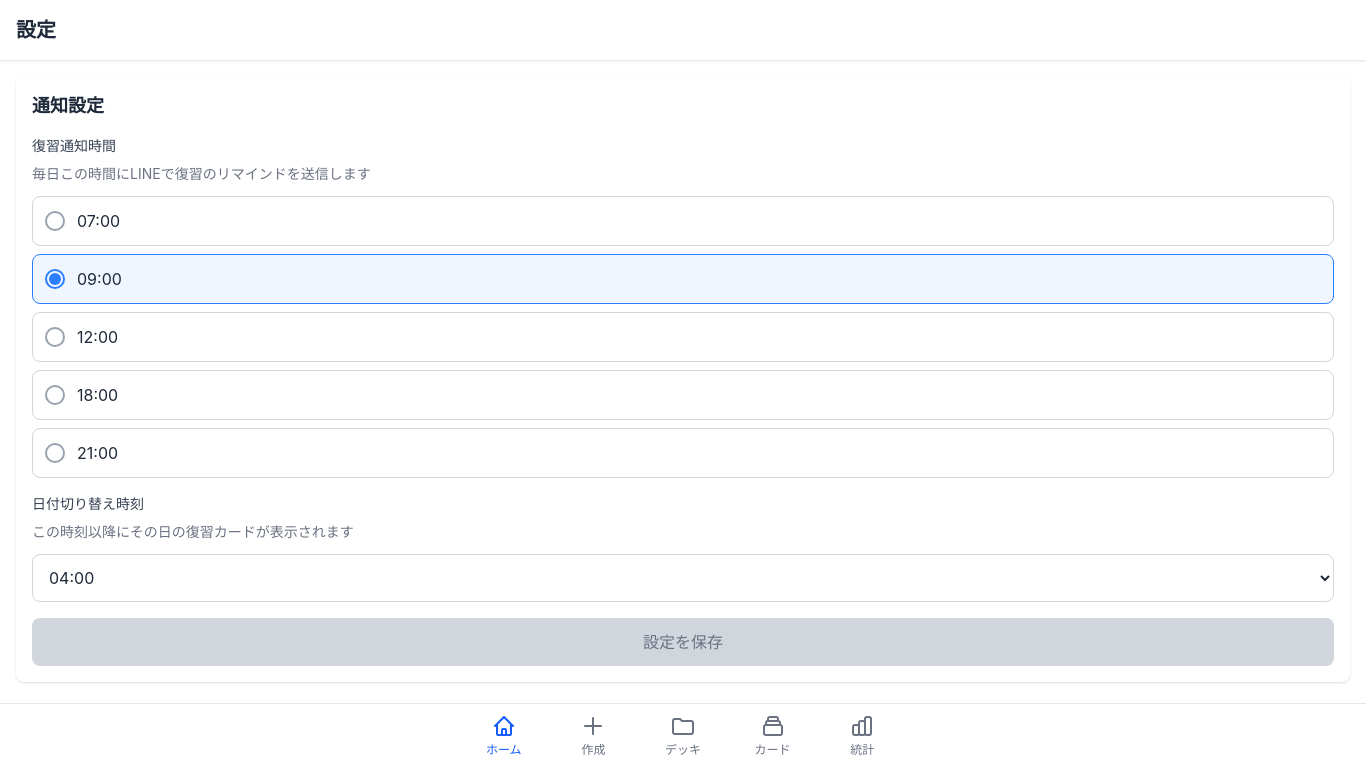
Test: SettingsPage › テストケース4: 変更がない場合の保存ボタン無効化 › 設定を変更すると保存ボタンが有効になる
Expected: the heading "設定" is shown, [16,18,56,42]
What coordinates should you click on to do the following:
click the radio button with test id "time-option-18:00"
I would click on:
 (98, 395)
Its box is [32,370,1334,420].
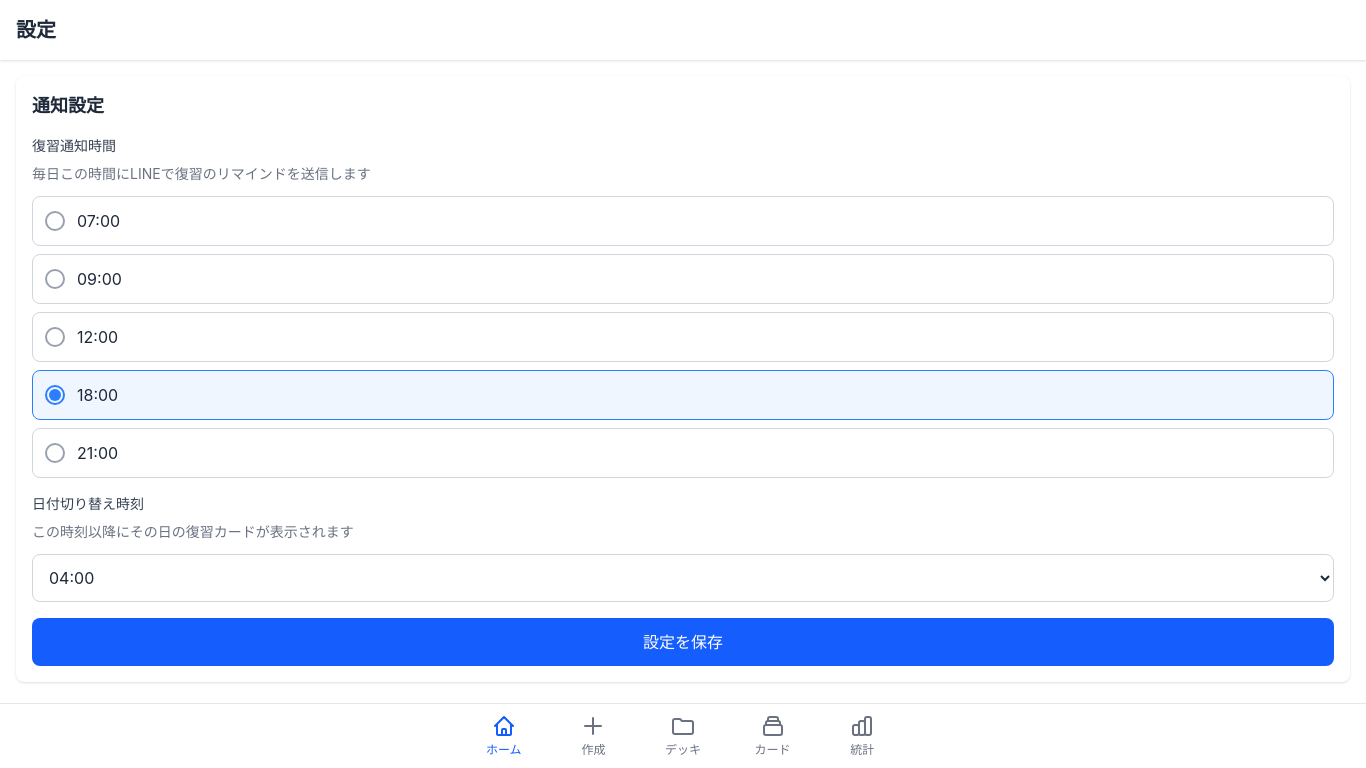
Now the button with test id "save-button" is enabled, box [32,618,1334,666]
